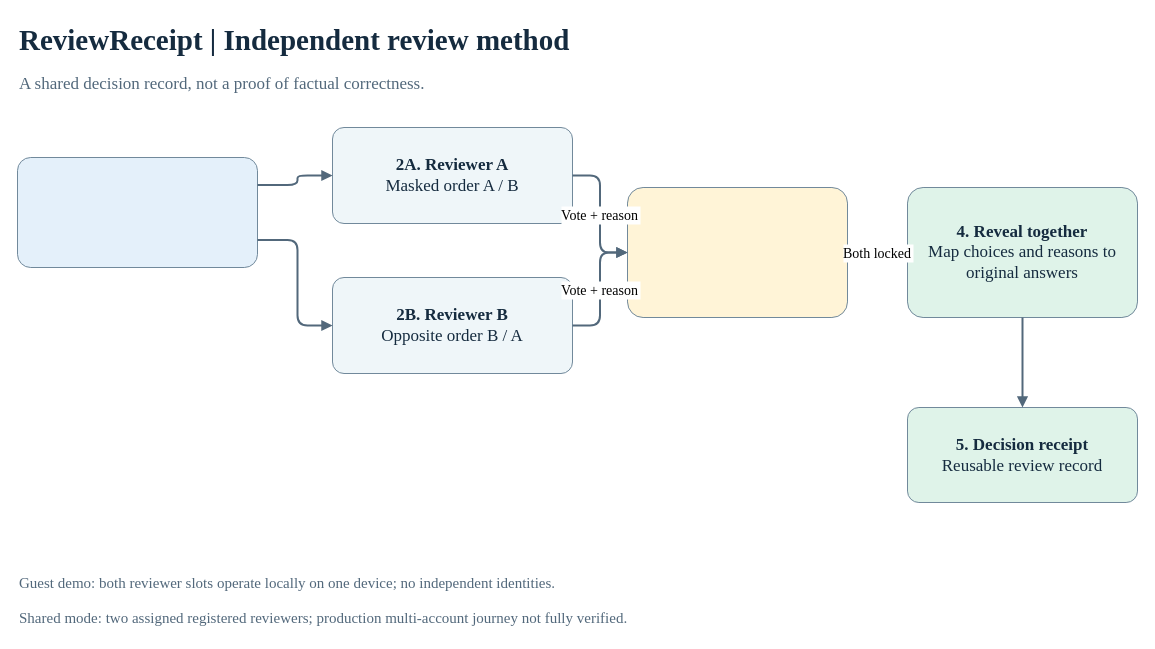
The diagram is 1155 pixels wide and 649 high, and some of its shapes have lost their labels. The centre of each missing label's shape, as x and y in pixels:
"1. Freeze the task Question, criteria, two candidate answers" belongs at [137,212].
"3. Lock ballots Judgments remain private until both submit" belongs at [737,252].
